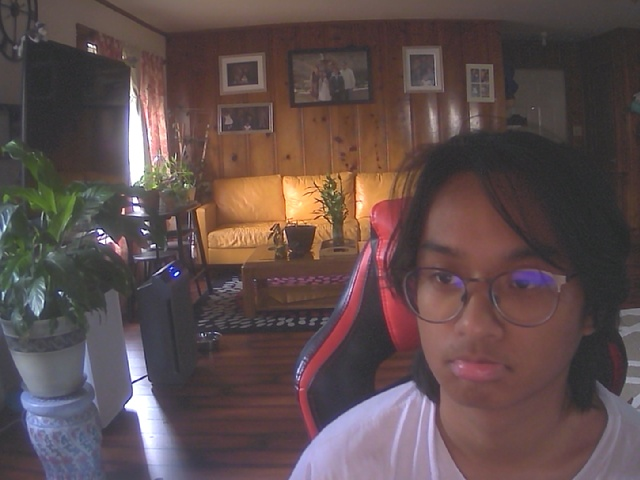sad: (393, 141, 614, 414)
